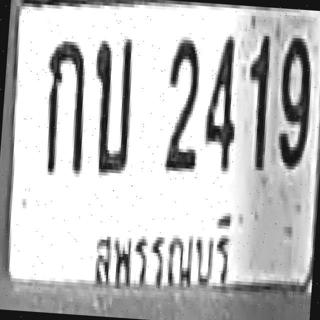A01: (40, 37, 88, 177)
A26: (87, 34, 136, 177)
N01: (241, 32, 271, 170)
N02: (161, 36, 204, 172)
N04: (201, 32, 240, 171)
N09: (275, 34, 314, 167)
P66: (77, 195, 247, 303)
